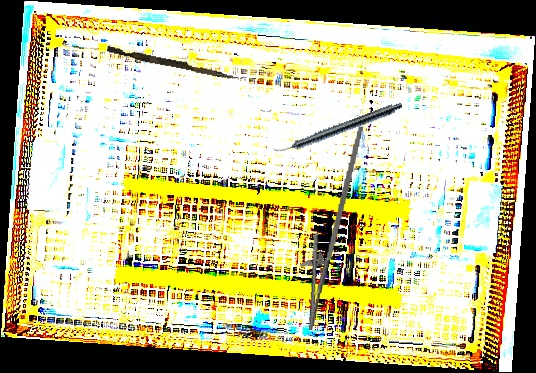Handpiece: (272, 98, 404, 159)
Needle Holder: (292, 121, 364, 334)
Pusher: (106, 46, 241, 81)
